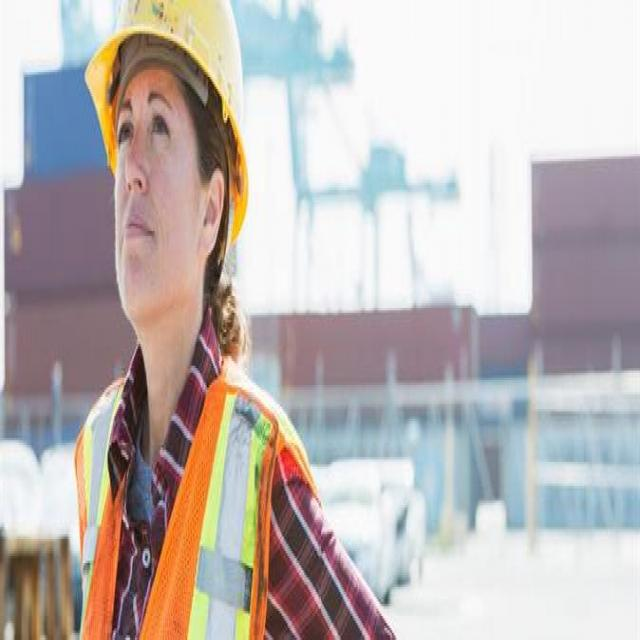Reflective-Jacket: (66, 356, 322, 640)
Safety-Helmet: (80, 0, 257, 231)
